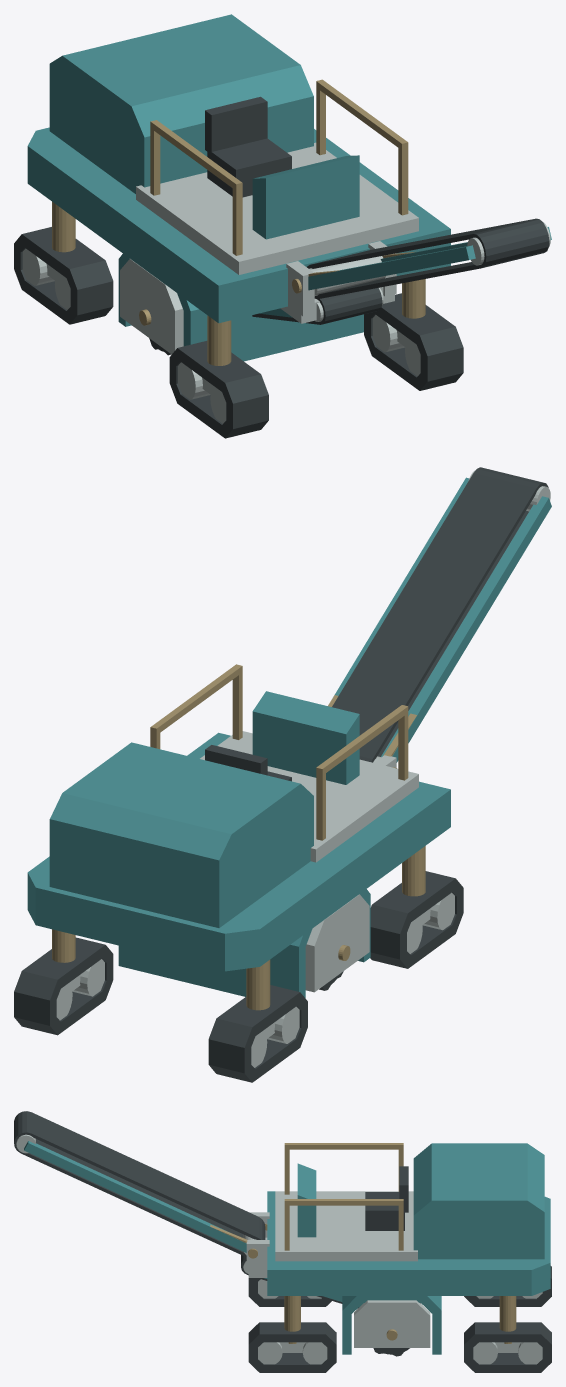
3 renders of one model, top to bottom at view 1: azimuth 30°, elevation 25°; view 2: azimuth 150°, elevation 25°; view 3: azimuth 270°, elevation 25°, orthographic. The views are drawn at different scales.
Parts seen in each view (by area): view 1: WholeRearPowerHousing, WholeHighLongChassis, WholeForwardOperatorDeck, WholeBlankForwardConsole, WholeFixedOperatorSeat, WholeLeftRearTrack, WholeLeftFrontTrack, WholeRisingDischargeClosedBelt, WholeRightFrontTrack, WholeBottomOpenDrumCanopy, WholeLeftDrumEndPlate, WholeLeftOpenStationRail (+11 smaller); view 2: WholeRearPowerHousing, WholeHighLongChassis, WholeRisingDischargeClosedBelt, WholeBlankForwardConsole, WholeForwardOperatorDeck, WholeLeftRearTrack, WholeRightRearTrack, WholeLeftFrontTrack, WholeBottomOpenDrumCanopy, WholeRisingDischargeLeftSideBeam, WholeLeftDrumEndPlate, WholeLeftOpenStationRail (+7 smaller); view 3: WholeRearPowerHousing, WholeHighLongChassis, WholeRisingDischargeClosedBelt, WholeForwardOperatorDeck, WholeRightDrumEndPlate, WholeRightFrontTrack, WholeRightRearTrack, WholeRisingDischargeRightSideBeam, WholeBottomOpenDrumCanopy, WholeFixedOperatorSeat, WholeRightOpenStationRail, WholeBlankForwardConsole (+10 smaller).
Boxes of the visible parts, left/top/right/bottom form: WholeRearPowerHousing: left=49, top=14, right=313, bottom=193; WholeHighLongChassis: left=27, top=127, right=450, bottom=323; WholeForwardOperatorDeck: left=136, top=142, right=418, bottom=274; WholeBlankForwardConsole: left=252, top=155, right=359, bottom=239; WholeFixedOperatorSeat: left=205, top=96, right=291, bottom=197; WholeLeftRearTrack: left=14, top=227, right=113, bottom=324; WholeLeftFrontTrack: left=169, top=341, right=268, bottom=438; WholeRisingDischargeClosedBelt: left=307, top=218, right=549, bottom=299; WholeRightFrontTrack: left=364, top=293, right=463, bottom=390; WholeBottomOpenDrumCanopy: left=118, top=253, right=363, bottom=361; WholeLeftDrumEndPlate: left=120, top=259, right=183, bottom=354; WholeLeftOpenStationRail: left=150, top=120, right=242, bottom=255; WholeRearPowerHousing: left=49, top=742, right=313, bottom=927; WholeHighLongChassis: left=27, top=732, right=450, bottom=971; WholeRisingDischargeClosedBelt: left=332, top=467, right=548, bottom=762; WholeBlankForwardConsole: left=252, top=691, right=359, bottom=784; WholeForwardOperatorDeck: left=200, top=731, right=418, bottom=862; WholeLeftRearTrack: left=208, top=985, right=307, bottom=1082; WholeRightRearTrack: left=14, top=937, right=113, bottom=1035; WholeLeftFrontTrack: left=370, top=871, right=463, bottom=968; WholeBottomOpenDrumCanopy: left=118, top=889, right=370, bottom=997; WholeRisingDischargeLeftSideBeam: left=381, top=496, right=551, bottom=762; WholeLeftDrumEndPlate: left=305, top=894, right=369, bottom=992; WholeLeftOpenStationRail: left=316, top=705, right=408, bottom=840; WholeRearPowerHousing: left=413, top=1143, right=544, bottom=1259; WholeHighLongChassis: left=267, top=1191, right=550, bottom=1295; WholeRisingDischargeClosedBelt: left=14, top=1111, right=265, bottom=1257; WholeForwardOperatorDeck: left=275, top=1191, right=417, bottom=1261; WholeRightDrumEndPlate: left=354, top=1300, right=430, bottom=1347; WholeRightFrontTrack: left=248, top=1322, right=336, bottom=1372; WholeRightRearTrack: left=464, top=1322, right=551, bottom=1372; WholeRisingDischargeRightSideBeam: left=24, top=1141, right=246, bottom=1252; WholeBottomOpenDrumCanopy: left=342, top=1296, right=441, bottom=1354; WholeFixedOperatorSeat: left=365, top=1166, right=408, bottom=1230; WholeRightOpenStationRail: left=284, top=1199, right=403, bottom=1250; WholeBlankForwardConsole: left=297, top=1163, right=316, bottom=1237.
Bounding box in the file's own units: 2.58 × 3.25 × 7.47.
